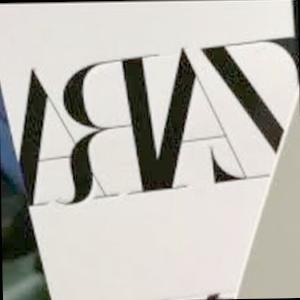zara: (5, 175, 300, 196)
